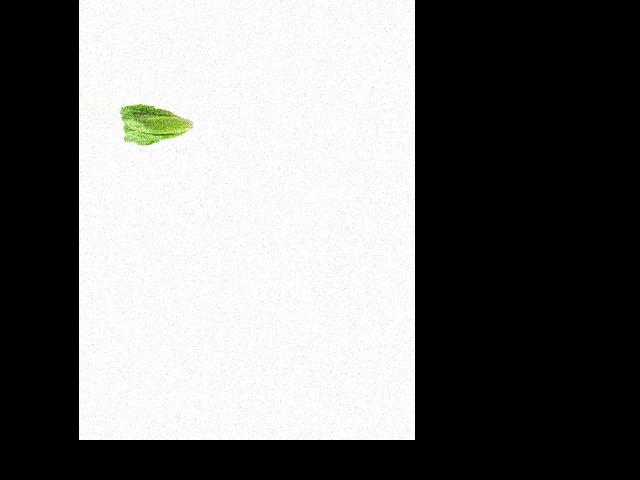lettuce: (120, 102, 192, 150)
